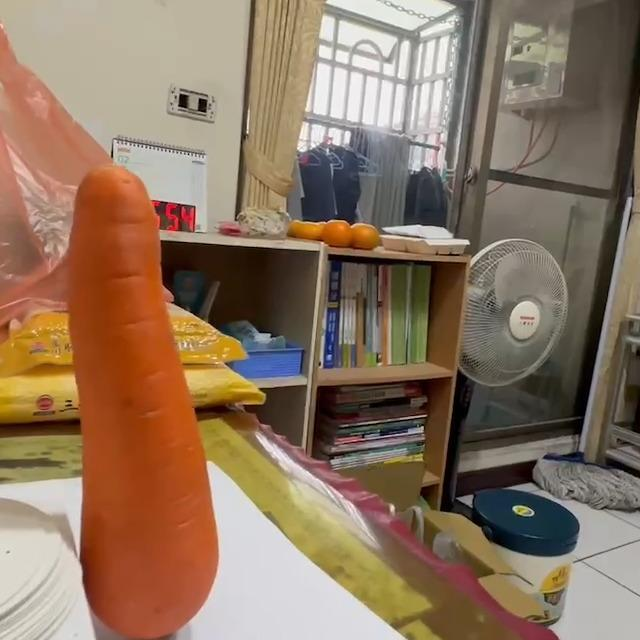carrot: (67, 160, 219, 640)
